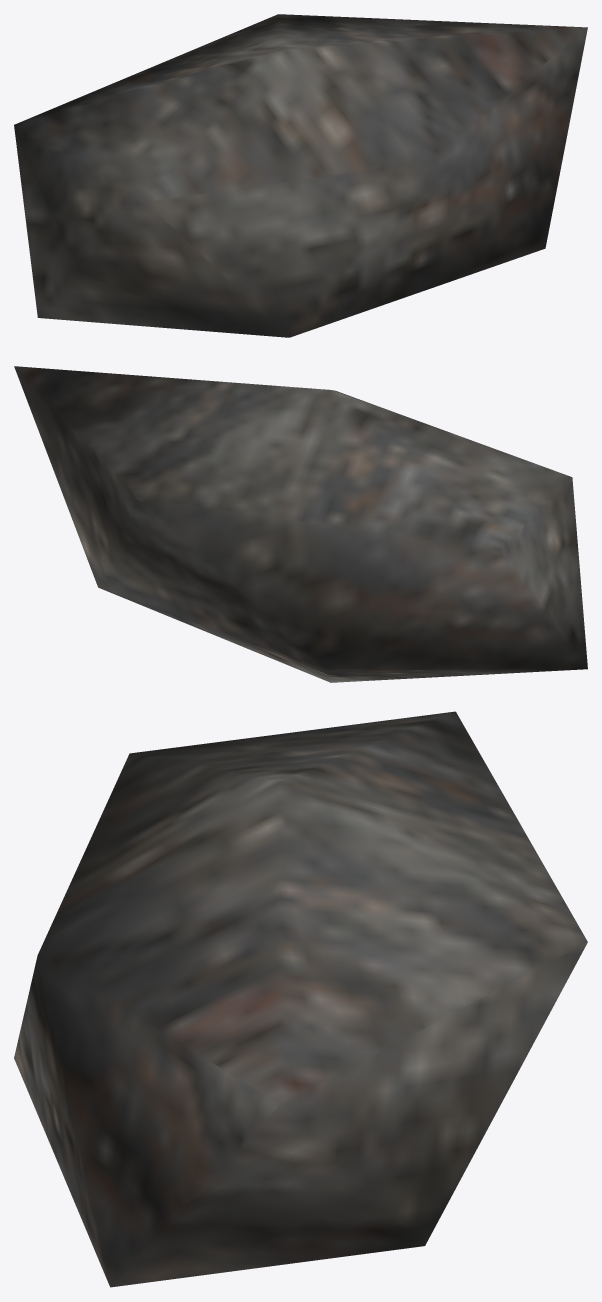
File: SM_HarvestRock_Chip03.fbx
3 views of the same model, one above another, from view 1: azimuth 30°, elevation 25°; view 2: azimuth 150°, elevation 25°; view 3: azimuth 270°, elevation 25° (orthographic). The views are drawn at different scales.
Visible parts, largest first — view 1: SM_HarvestRock_Chip03; view 2: SM_HarvestRock_Chip03; view 3: SM_HarvestRock_Chip03.
Part boxes in pixels (left/top/right/bottom): SM_HarvestRock_Chip03: left=14, top=14, right=587, bottom=337; SM_HarvestRock_Chip03: left=14, top=366, right=587, bottom=682; SM_HarvestRock_Chip03: left=14, top=711, right=587, bottom=1287.
Size of the model in its own units: 40.71 by 22.76 by 19.85.
Materials: 1 (1 with a texture image).
